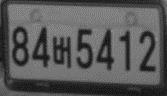1: (118, 29, 131, 71)
2: (138, 29, 157, 72)
4: (31, 25, 50, 68), (95, 28, 114, 71)
5: (75, 27, 93, 69)
8: (10, 25, 29, 67)
버: (51, 35, 71, 69)
